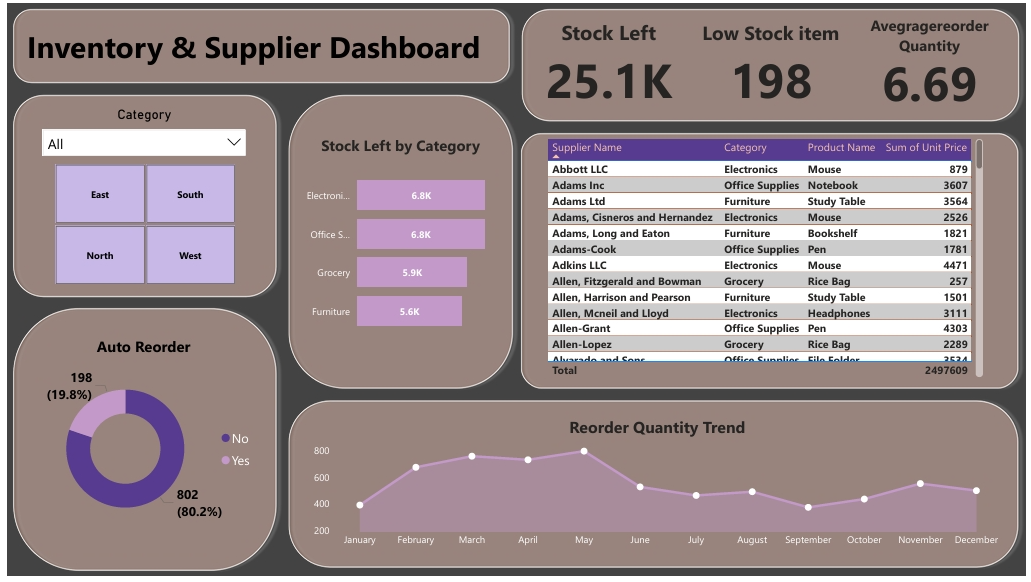

This screenshot's page, from the dashboard's own definition file:
{"tool":"powerbi","page":{"name":"Page 2","canvas":[1280,720],"ordinal":1},"visuals":[{"type":"shape","box":[0,0,639.4,108],"z":0},{"type":"shape","box":[0,108,345.6,269.3],"z":1000},{"type":"textbox","box":[20.2,24.5,609.1,59],"z":2000},{"type":"slicer","title":"Category","fields":{"Values":["Superstore_Management_System.Category"]},"box":[35,130,275,66.7],"z":3000},{"type":"slicer","fields":{"Values":["Superstore_Management_System.Region"]},"box":[34.6,195.8,275,164.2],"z":4000},{"type":"shape","box":[639.4,0,639.4,155.5],"z":5000},{"type":"card","title":"Stock  Left","fields":{"Values":["Sum(Superstore_Management_System.Stock Left)"]},"box":[660.2,20.2,191.5,114.2],"z":6000},{"type":"card","title":"Low Stock  item","fields":{"Values":["CountNonNull(Superstore_Management_System.Stock Left)"]},"box":[866.8,20.2,184.8,114.2],"z":7000},{"type":"card","title":"Avegragereorder Quantity","fields":{"Values":["Avg(Superstore_Management_System.Reorder Quantity)"]},"box":[1065,15.1,188.1,114.2],"z":8000},{"type":"shape","box":[638.3,156.2,640,336],"z":9000},{"type":"shape","box":[0,376.3,346,344.4],"z":10000},{"type":"shape","box":[346,107.5,297.3,384.7],"z":11000},{"type":"shape","box":[346,492.2,932.3,225.1],"z":12000},{"type":"donutChart","title":"Auto Reorder","fields":{"Y":["CountNonNull(Superstore_Management_System.Auto Reorder)"],"Category":["Superstore_Management_System.Auto Reorder"]},"box":[23.5,418.3,295.6,258.7],"z":13000},{"type":"lineChart","title":"Reorder Quantity Trend","fields":{"Category":["Superstore_Management_System.Ship Date.Variation.Date Hierarchy.Month"],"Y":["Sum(Superstore_Management_System.Reorder Quantity)"]},"box":[380.2,518.4,874.1,174.2],"z":14000},{"type":"barChart","title":"Stock Left by Category","fields":{"Category":["Superstore_Management_System.Category"],"Y":["Sum(Superstore_Management_System.Stock Left)"]},"box":[360,165.6,269.3,266.4],"z":15000},{"type":"tableEx","fields":{"Values":["Superstore_Management_System.Supplier Name","Superstore_Management_System.Category","Superstore_Management_System.Product Name","Sum(Superstore_Management_System.Unit Price)"]},"box":[673.9,165.6,557.3,309.6],"z":16000}]}

Visuals, with their boxes in screenshot pixels (x1, y1, x2, y2), scaled from the page's 1280x720 canvas onto the 1031x582 screenshot:
shape: box(0, 0, 515, 87)
shape: box(0, 87, 278, 305)
textbox: box(16, 20, 507, 67)
"Category" slicer: box(28, 105, 250, 159)
slicer - Superstore_Management_System.Region: box(28, 158, 249, 291)
shape: box(515, 0, 1030, 126)
"Stock  Left" card: box(532, 16, 686, 109)
"Low Stock  item" card: box(698, 16, 847, 109)
"Avegragereorder Quantity" card: box(858, 12, 1009, 105)
shape: box(514, 126, 1030, 398)
shape: box(0, 304, 279, 581)
shape: box(279, 87, 518, 398)
shape: box(279, 398, 1030, 580)
"Auto Reorder" donutChart: box(19, 338, 257, 547)
"Reorder Quantity Trend" lineChart: box(306, 419, 1010, 560)
"Stock Left by Category" barChart: box(290, 134, 507, 349)
tableEx - Superstore_Management_System.Supplier Name x Superstore_Management_System.Category: box(543, 134, 992, 384)
